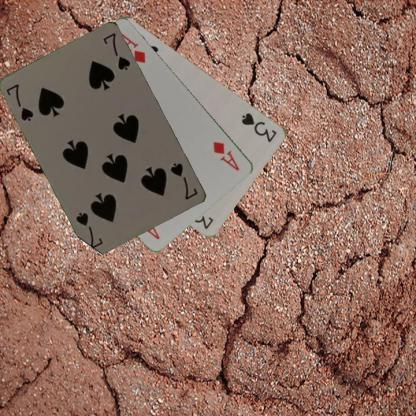3s: (239, 110, 279, 144)
7s: (3, 81, 36, 123), (167, 160, 200, 201)
Ad: (210, 139, 241, 172)
